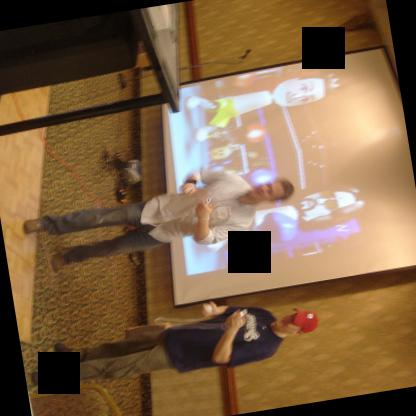handbag: (124, 323, 167, 337)
